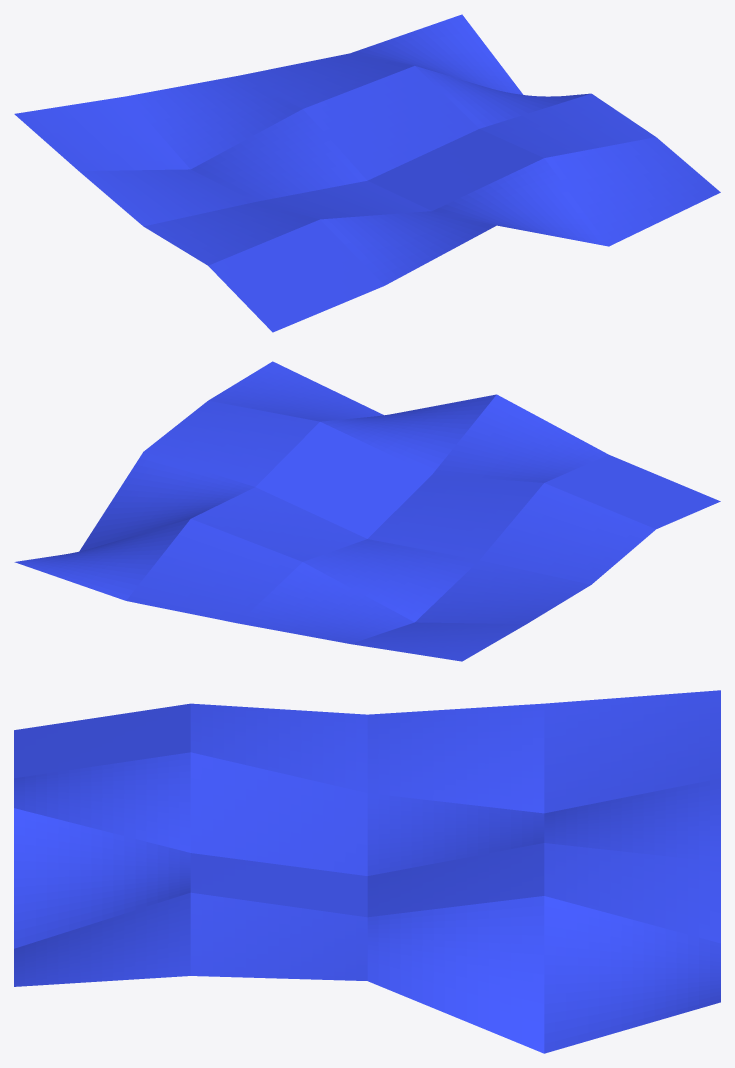
The model's file is water.obj.
3 renders of one model, top to bottom at view 1: azimuth 30°, elevation 25°; view 2: azimuth 150°, elevation 25°; view 3: azimuth 270°, elevation 25°, orthographic. The views are drawn at different scales.
Visible parts, largest first — view 1: Plane; view 2: Plane; view 3: Plane.
Part boxes in pixels (x1,y1,x2,y2): Plane: (14, 14, 720, 332); Plane: (14, 361, 720, 661); Plane: (14, 690, 720, 1053).
Bounding box in the file's own units: 40 × 6.01 × 40.
1 material, 1 textured.
